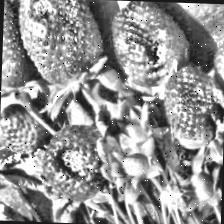Anthracnose Fruit Rot: (24, 0, 77, 34), (185, 100, 224, 145), (50, 144, 92, 180), (148, 44, 168, 67)
